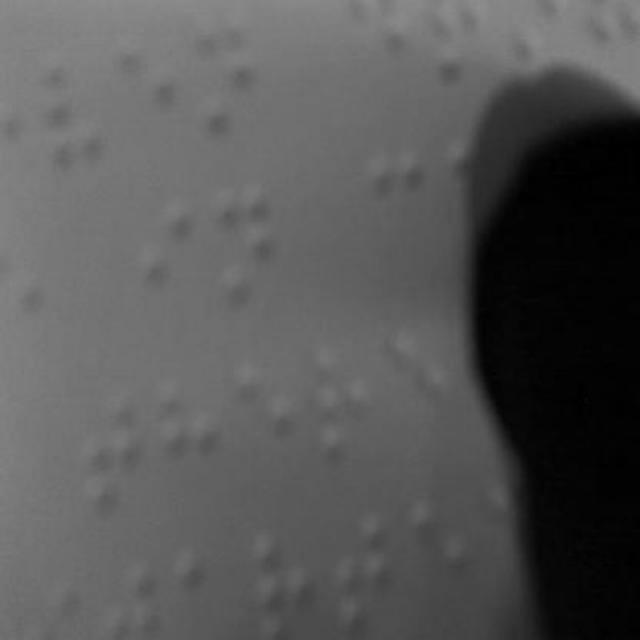braiile: (369, 142, 438, 290), (216, 178, 284, 328), (156, 370, 228, 508), (191, 0, 257, 146), (142, 194, 210, 334), (314, 340, 384, 474), (236, 352, 304, 488), (410, 493, 476, 631), (253, 512, 323, 640), (84, 386, 150, 518), (115, 35, 178, 168), (38, 58, 110, 172), (334, 516, 400, 640)
